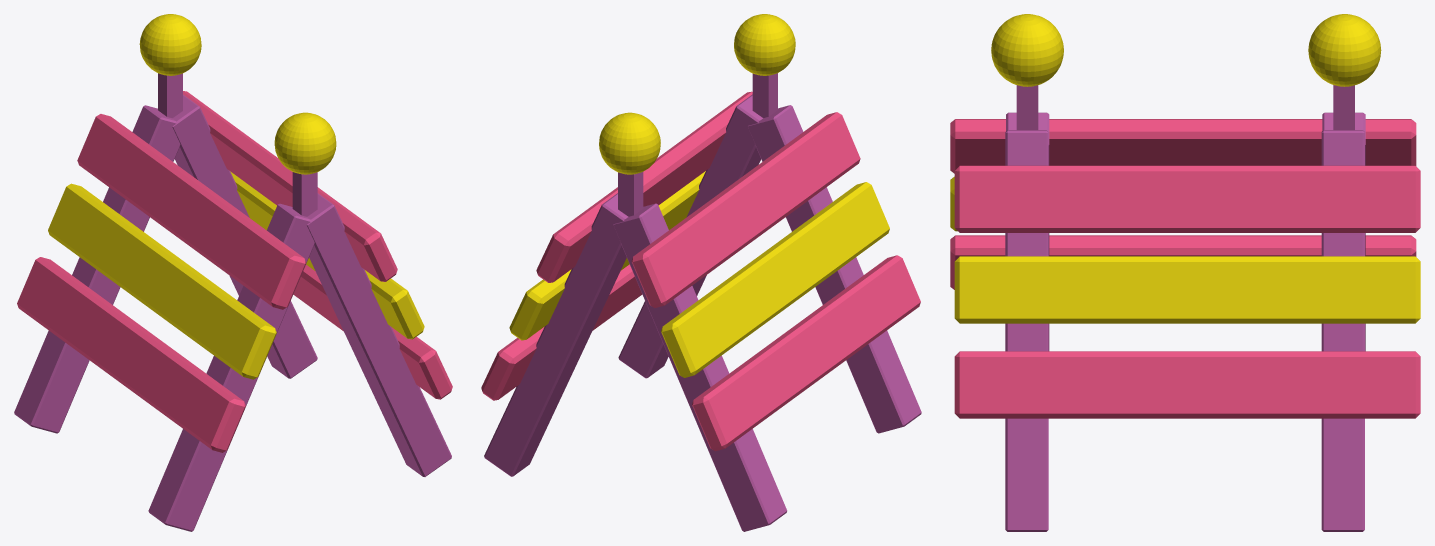
The model's file is RoadBlock.fbx.
The picture shows the model from 3 angles, left to right: view 1: azimuth 30°, elevation 25°; view 2: azimuth 150°, elevation 25°; view 3: azimuth 270°, elevation 25°; orthographic projection. The views are drawn at different scales.
Parts seen in each view (by area): view 1: Cube.031; view 2: Cube.031; view 3: Cube.031.
Boxes of the visible parts, x1=… form: Cube.031: x1=14, y1=14, x2=452, y2=531; Cube.031: x1=481, y1=14, x2=921, y2=531; Cube.031: x1=950, y1=14, x2=1420, y2=531.
Size of the model in its own units: 4.19 by 5.34 by 5.06.
